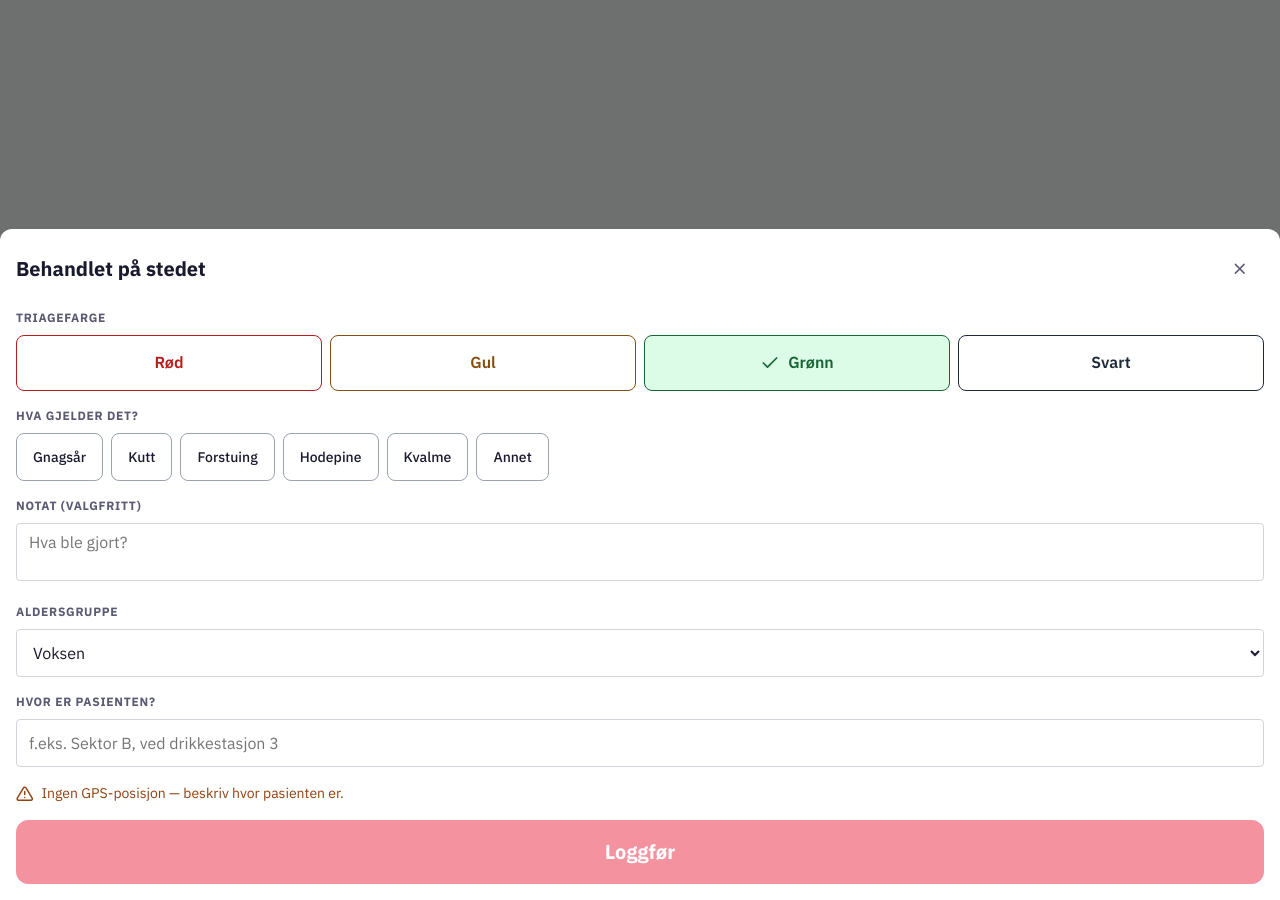
Test: QuickLogSheet (gap A8 / item 8.28) › "Annet" requires typed text before it can submit
Click the radio button with test id "firstaid-quick-log-complaint-other": (513, 457) [476,433,549,481]
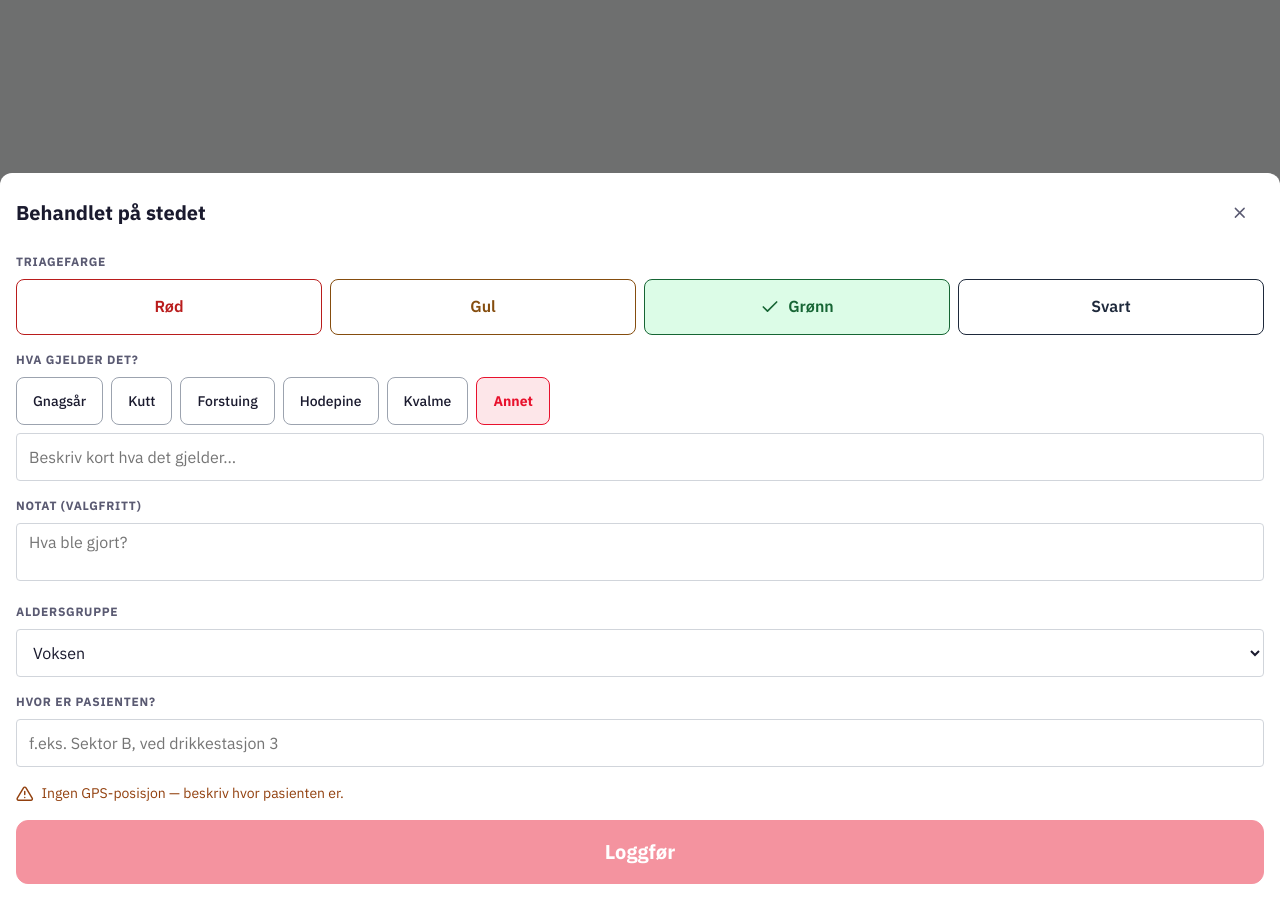
Expected: the button with test id "firstaid-quick-log-submit" is disabled, [16,820,1264,884]
In the field named "Beskriv hva det gjelder": (640, 457) [16,433,1264,481], type "Insektstikk"
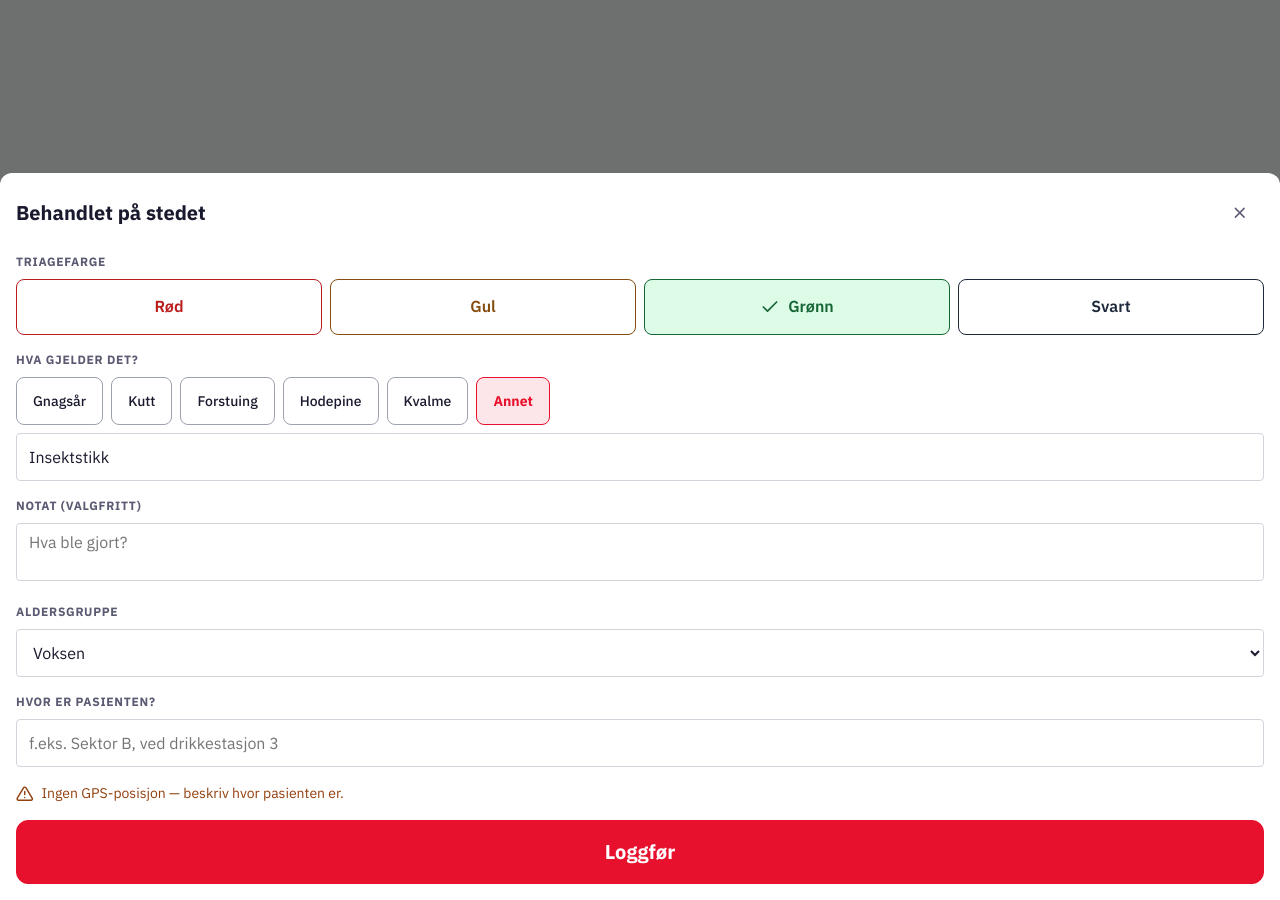
Result: the button with test id "firstaid-quick-log-submit" is enabled at [16,820,1264,884]
